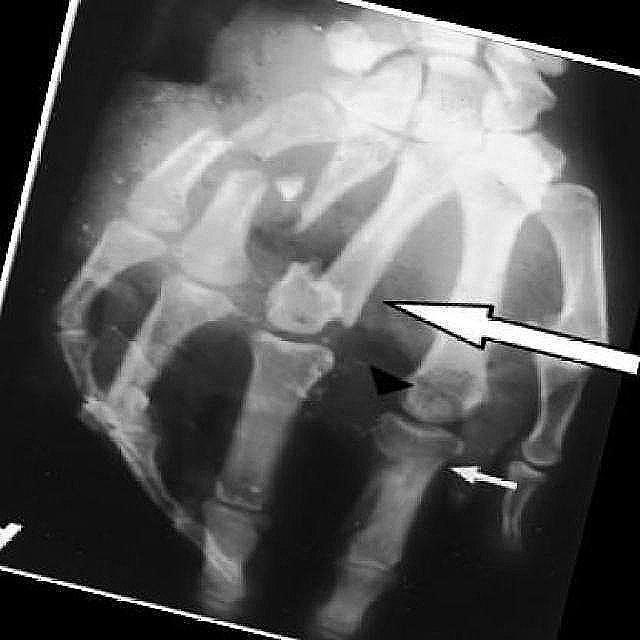bone: (275, 236, 404, 340), (206, 154, 342, 251), (348, 424, 464, 512), (177, 109, 285, 183)
